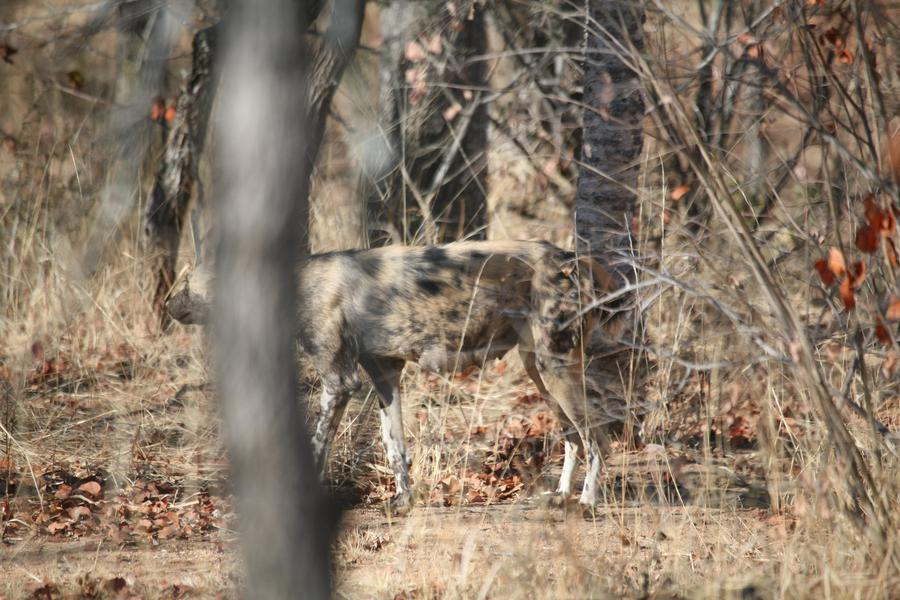wilddog: (306, 243, 617, 435)
